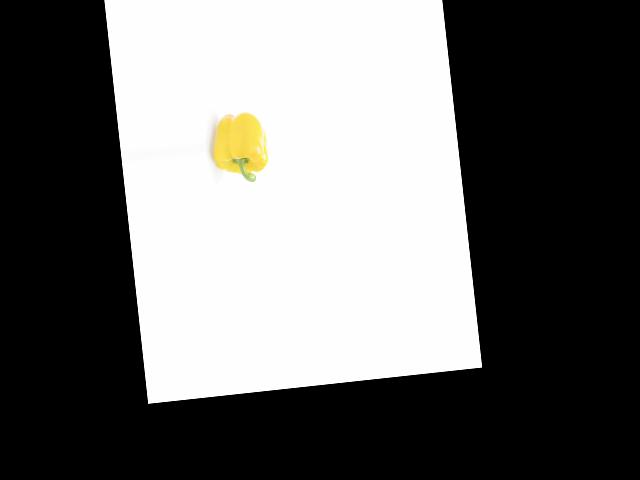bell_pepper: (209, 107, 274, 191)
